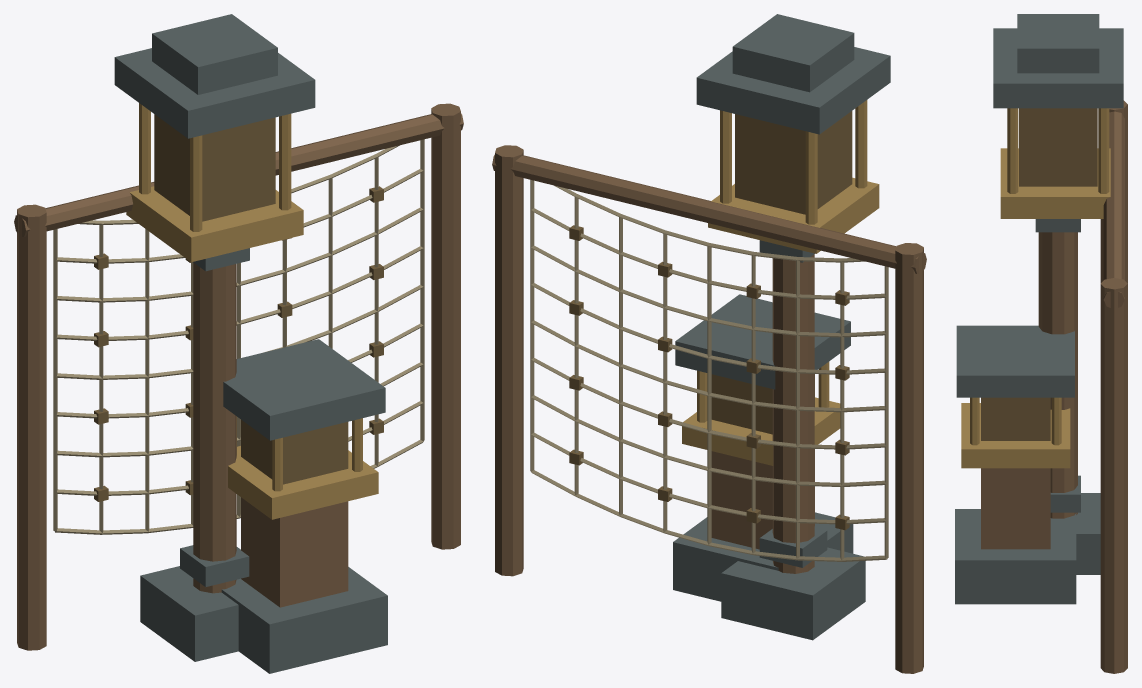
The model's file is exterior_light_kit.glb.
3 renders of one model, left to right at view 1: azimuth 30°, elevation 25°; view 2: azimuth 150°, elevation 25°; view 3: azimuth 270°, elevation 25°, orthographic. The views are drawn at different scales.
Visible parts, largest first — view 1: GEO-W005-woven-net-frame, GEO-W005-dock-lamp-frame, GEO-W005-waylight-frame, GEO-W005-dock-lamp-core, GEO-W005-waylight-core, GEO-W005-woven-net-knots; view 2: GEO-W005-woven-net-frame, GEO-W005-dock-lamp-frame, GEO-W005-waylight-frame, GEO-W005-dock-lamp-core, GEO-W005-woven-net-knots, GEO-W005-waylight-core; view 3: GEO-W005-waylight-frame, GEO-W005-dock-lamp-frame, GEO-W005-woven-net-frame, GEO-W005-dock-lamp-core, GEO-W005-waylight-core.
Part boxes in pixels (x1,y1,x2,y2): GEO-W005-woven-net-frame: [14, 103, 463, 650]; GEO-W005-dock-lamp-frame: [114, 14, 315, 661]; GEO-W005-waylight-frame: [221, 339, 387, 673]; GEO-W005-dock-lamp-core: [154, 114, 275, 221]; GEO-W005-waylight-core: [241, 419, 348, 484]; GEO-W005-woven-net-knots: [94, 186, 383, 501]; GEO-W005-woven-net-frame: [492, 145, 926, 673]; GEO-W005-dock-lamp-frame: [696, 14, 890, 640]; GEO-W005-waylight-frame: [673, 294, 853, 601]; GEO-W005-dock-lamp-core: [735, 111, 852, 214]; GEO-W005-woven-net-knots: [569, 225, 849, 530]; GEO-W005-waylight-core: [711, 374, 814, 434]; GEO-W005-waylight-frame: [955, 325, 1076, 604]; GEO-W005-dock-lamp-frame: [993, 14, 1123, 574]; GEO-W005-woven-net-frame: [1100, 100, 1127, 673]; GEO-W005-dock-lamp-core: [1019, 108, 1097, 186]; GEO-W005-waylight-core: [981, 397, 1050, 440].
Size of the model in its own units: 1.49 by 1.9 by 0.57.
